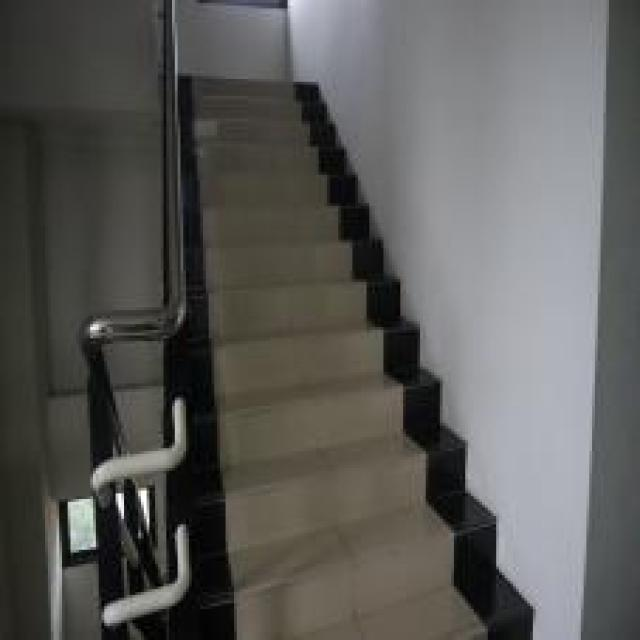upstair: (187, 151, 494, 639)
